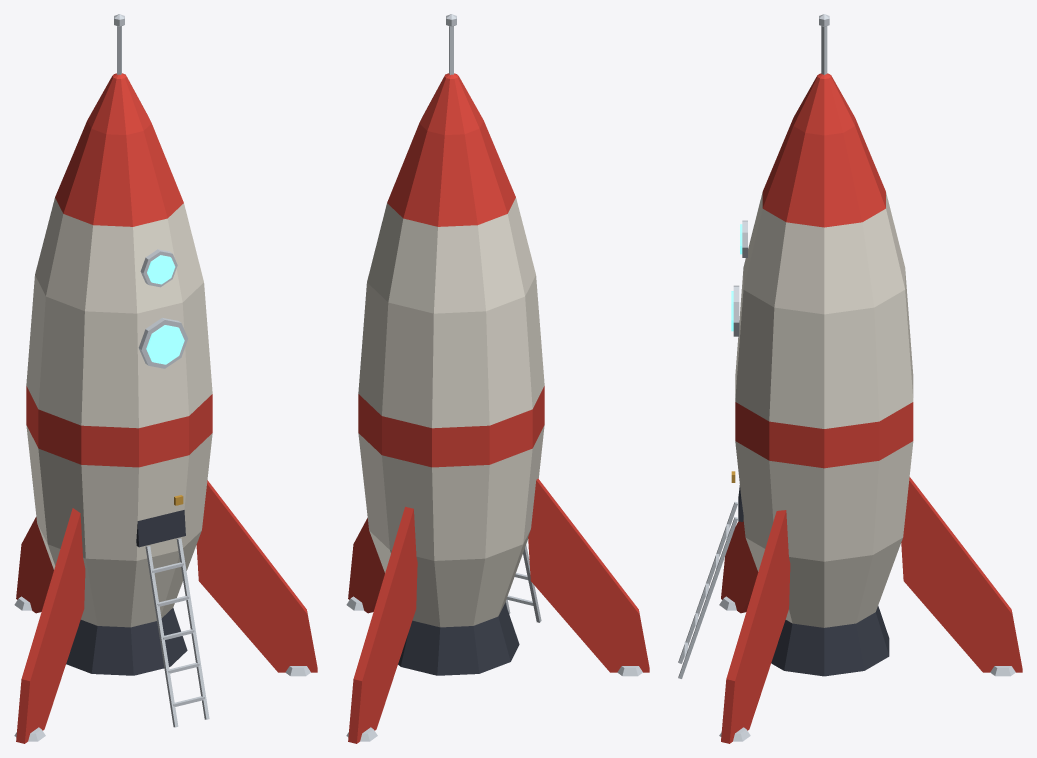
File: Ship_Rocket_Classic.fbx
3 renders of one model, left to right at view 1: azimuth 30°, elevation 25°; view 2: azimuth 150°, elevation 25°; view 3: azimuth 270°, elevation 25°, orthographic.
Parts seen in each view (by area): view 1: Ship_Rocket_Classic_Body, Ship_Rocket_Classic_Fin_C, Ship_Rocket_Classic_Fin_B, Ship_Rocket_Classic_Fin_A; view 2: Ship_Rocket_Classic_Body, Ship_Rocket_Classic_Fin_B, Ship_Rocket_Classic_Fin_A, Ship_Rocket_Classic_Fin_C; view 3: Ship_Rocket_Classic_Body, Ship_Rocket_Classic_Fin_A, Ship_Rocket_Classic_Fin_C, Ship_Rocket_Classic_Fin_B.
Part boxes in pixels (x1,y1,x2,y2): Ship_Rocket_Classic_Body: (26, 14, 212, 727); Ship_Rocket_Classic_Fin_C: (196, 480, 317, 676); Ship_Rocket_Classic_Fin_B: (14, 508, 85, 743); Ship_Rocket_Classic_Fin_A: (14, 517, 53, 613); Ship_Rocket_Classic_Body: (358, 14, 544, 675); Ship_Rocket_Classic_Fin_B: (528, 478, 649, 676); Ship_Rocket_Classic_Fin_A: (346, 506, 417, 743); Ship_Rocket_Classic_Fin_C: (346, 518, 384, 613); Ship_Rocket_Classic_Body: (678, 14, 913, 678); Ship_Rocket_Classic_Fin_A: (901, 477, 1022, 676); Ship_Rocket_Classic_Fin_C: (719, 510, 790, 743); Ship_Rocket_Classic_Fin_B: (719, 520, 758, 613).
Bounding box in the file's own units: 4.83 × 10.06 × 4.77.
